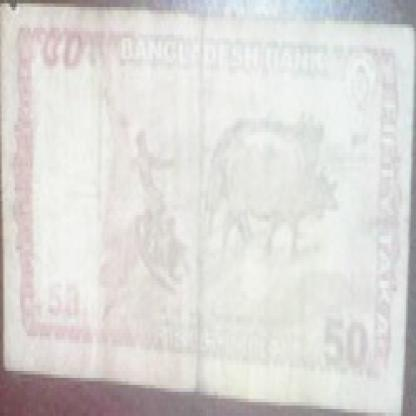Fifty taka: (311, 301, 378, 384), (40, 14, 83, 73)
